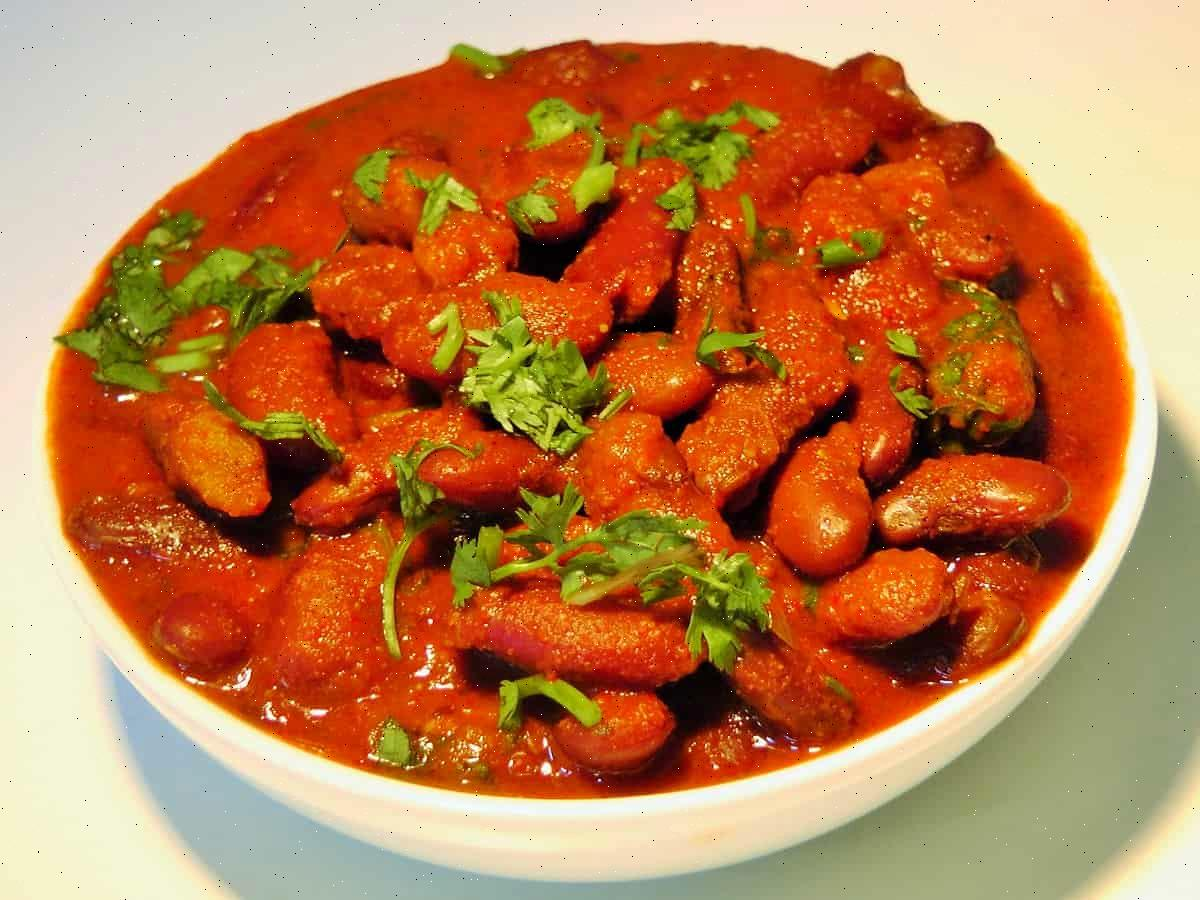rajma: (80, 30, 1105, 825)
